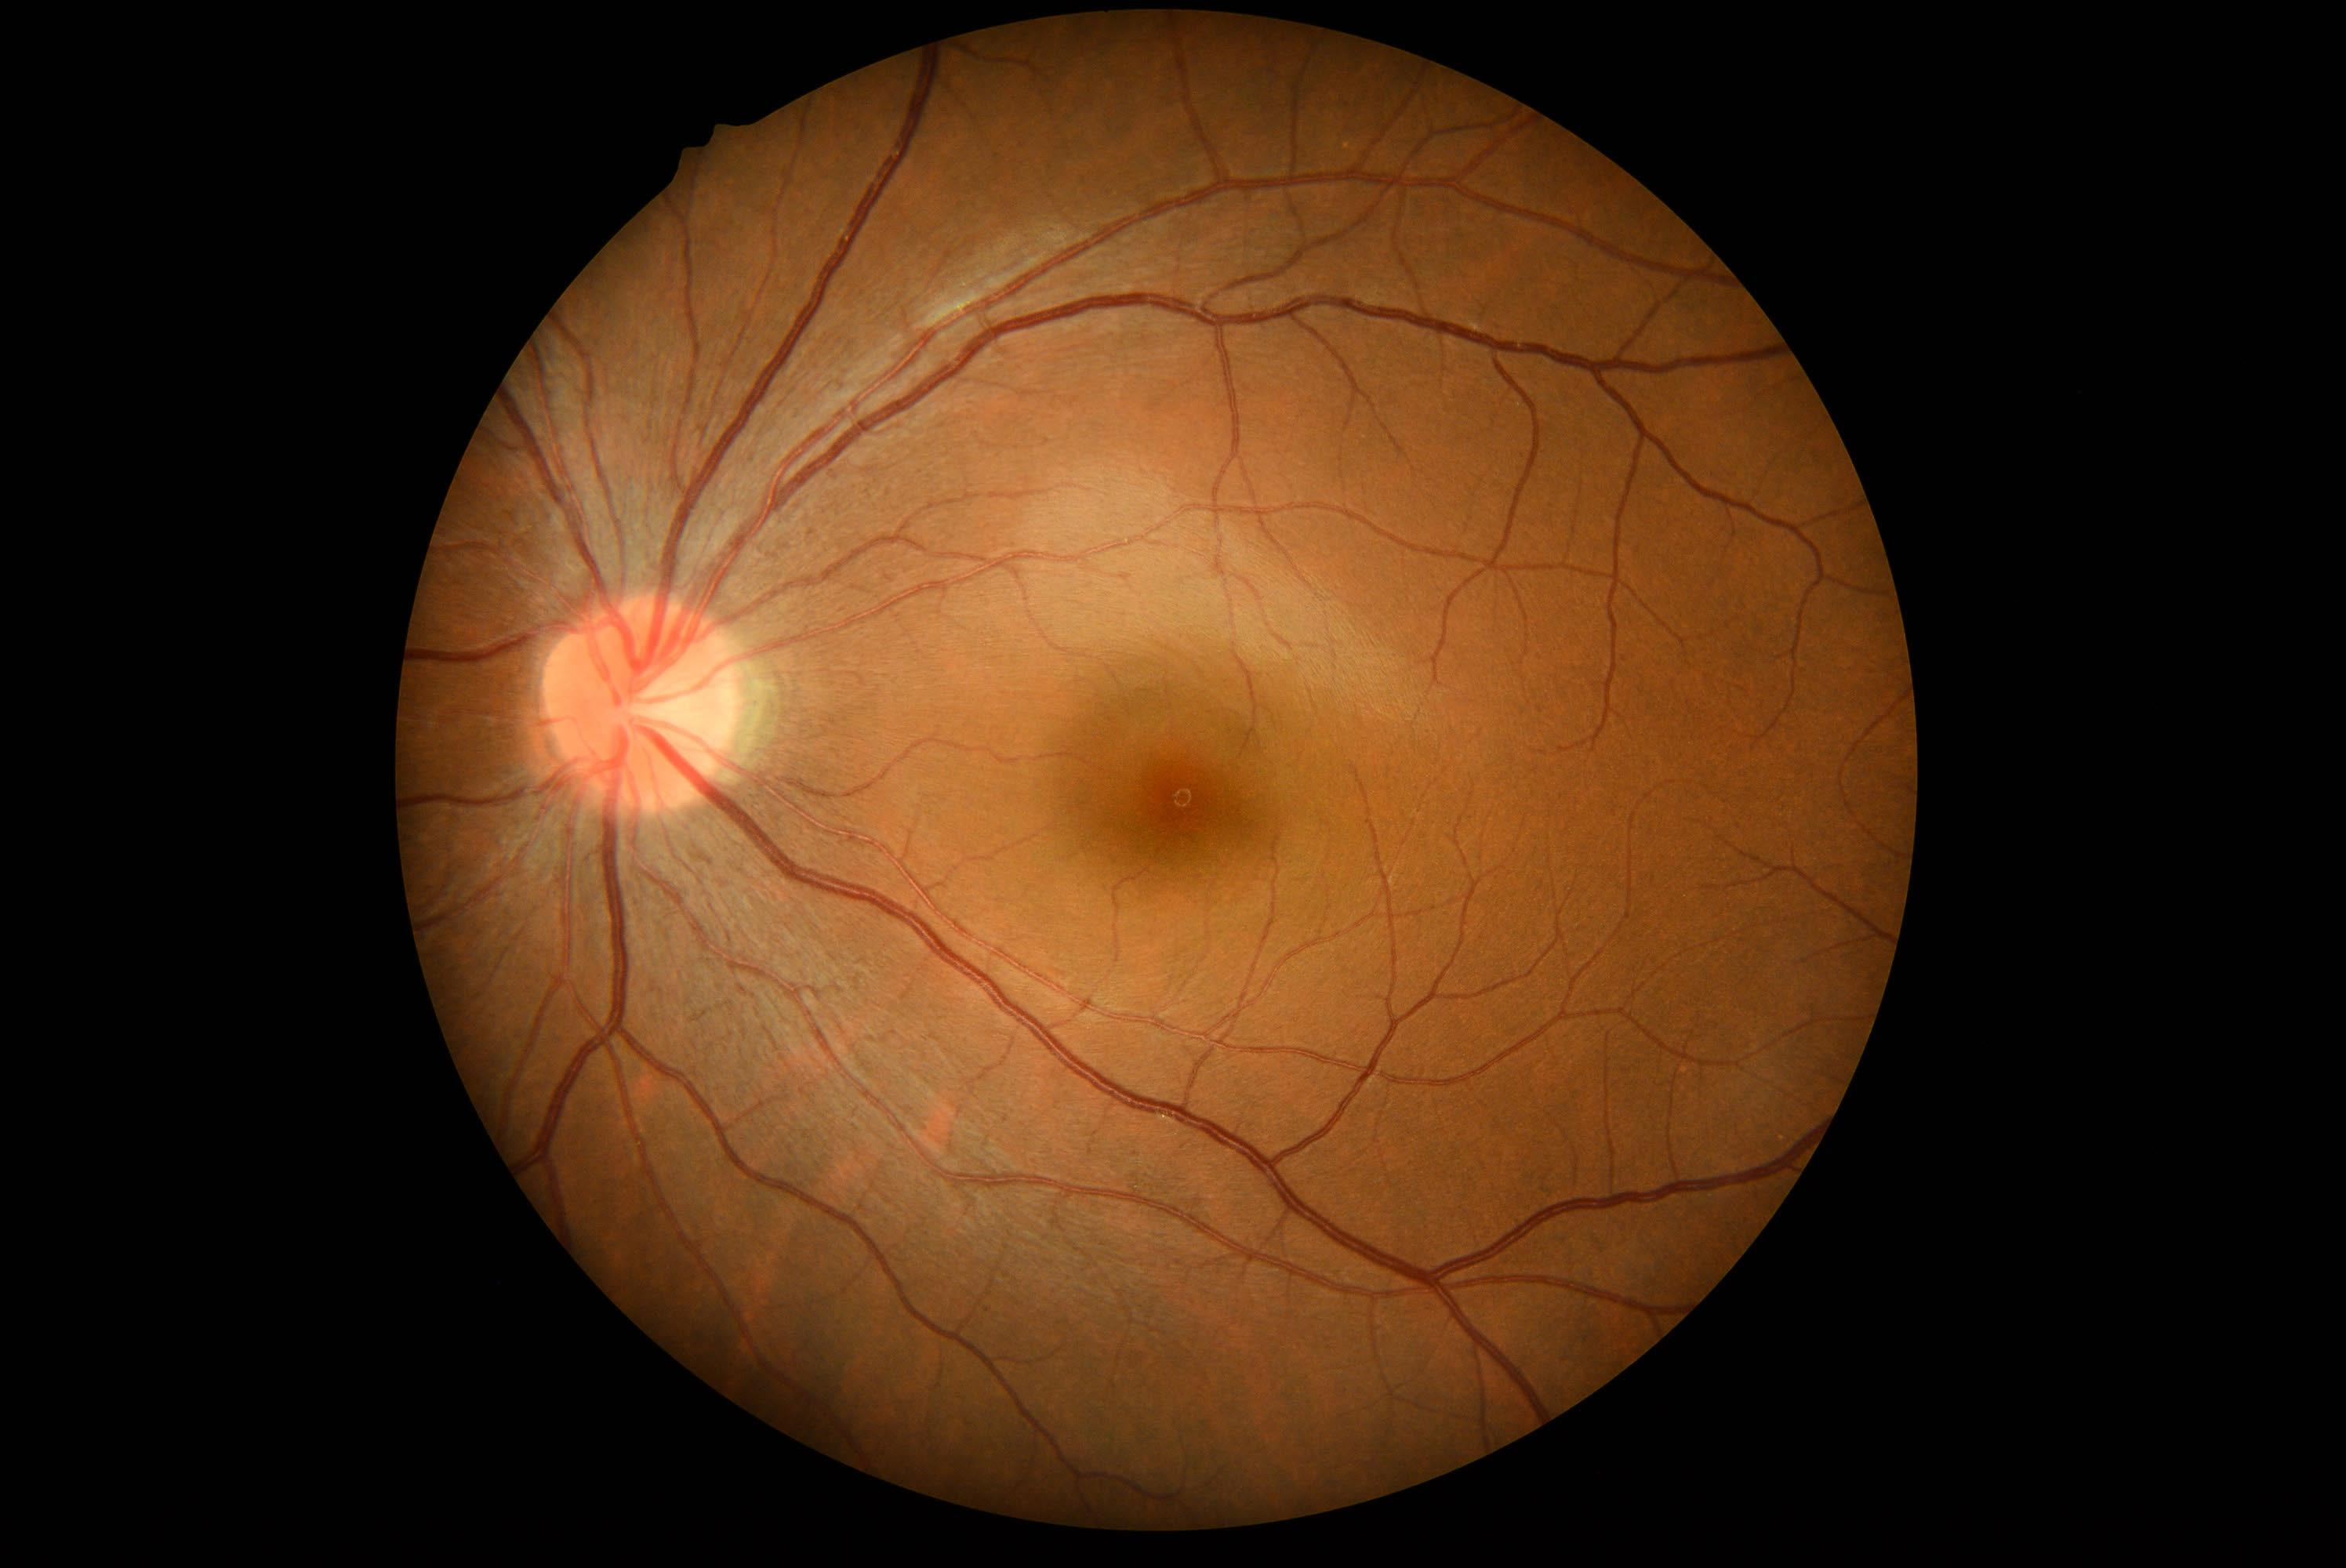Fovea: (1090, 714, 1265, 884)
